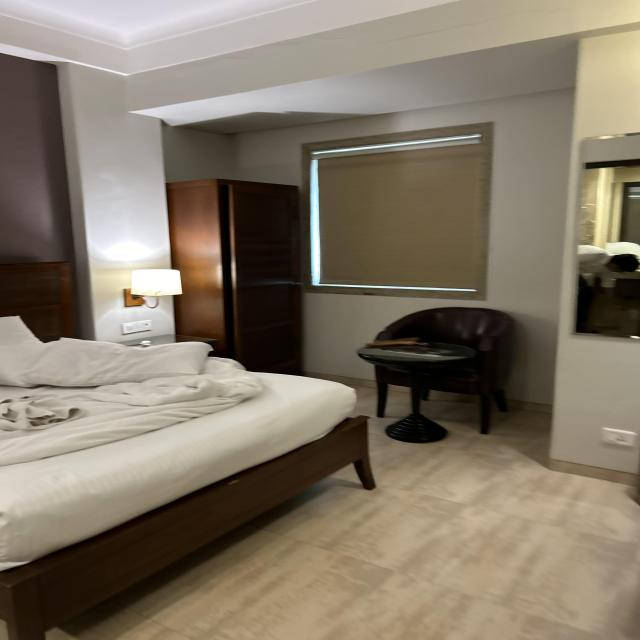mess: (0, 293, 358, 593)
